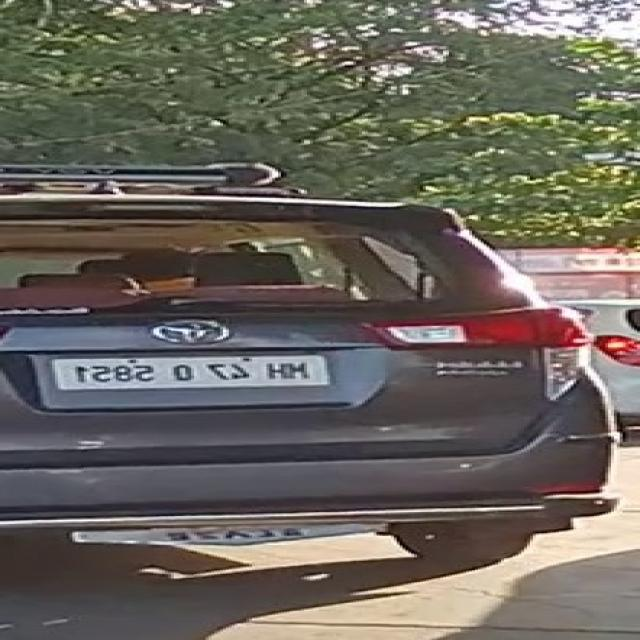license_plate: (45, 347, 339, 397)
